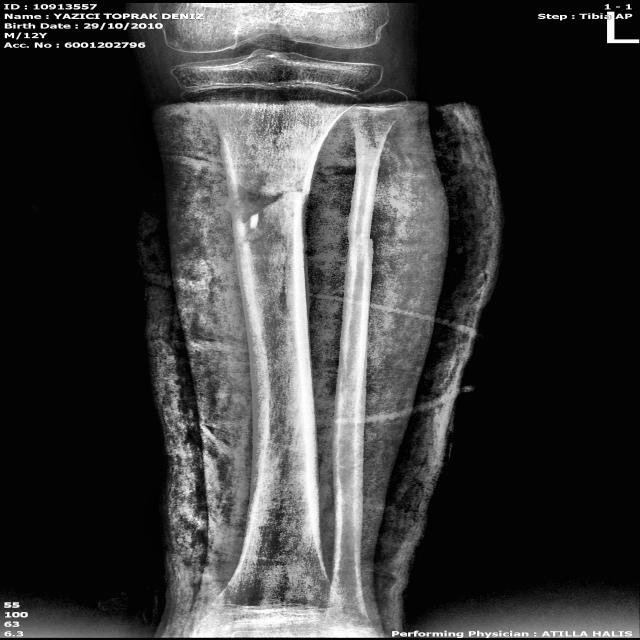Fracture: (213, 165, 324, 256)
